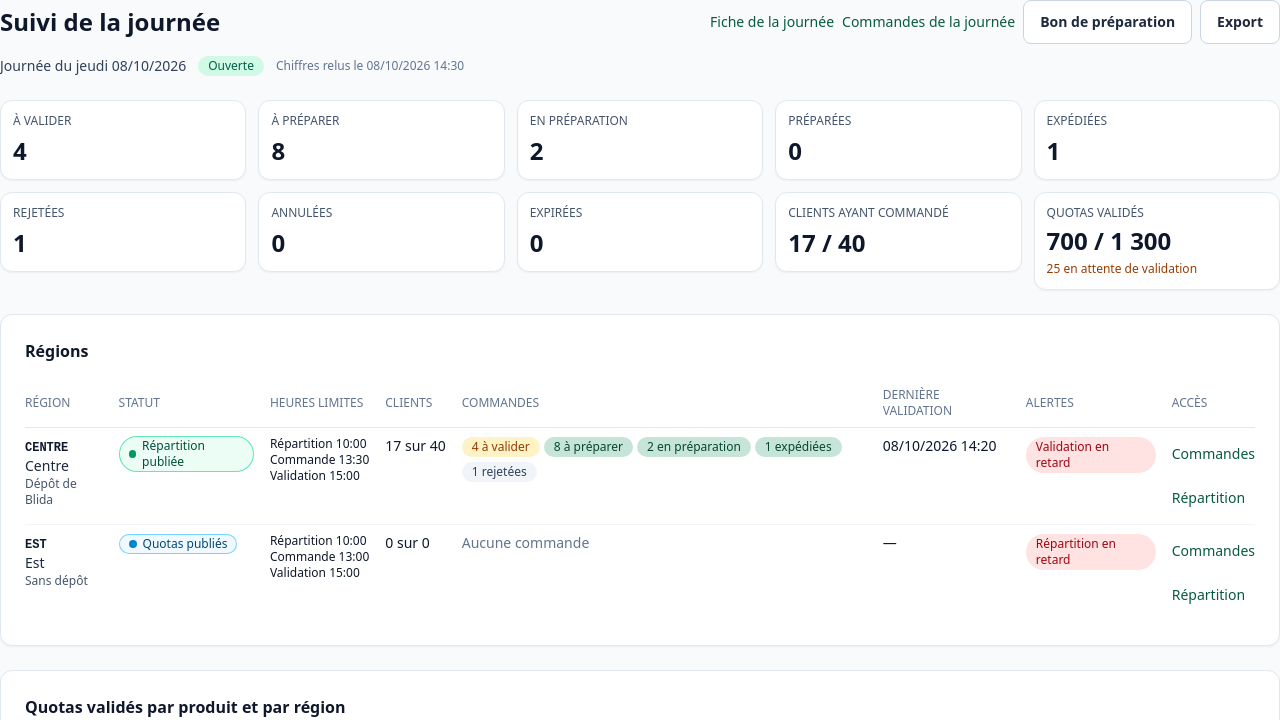
Test: ADV — picking list (RG-A04, EF-ADV-05) › shows a refusal as a message in the dialog, never as a file
Click the button "Bon de préparation" at [1108, 22], box x1=1023 y1=0 x2=1192 y2=44
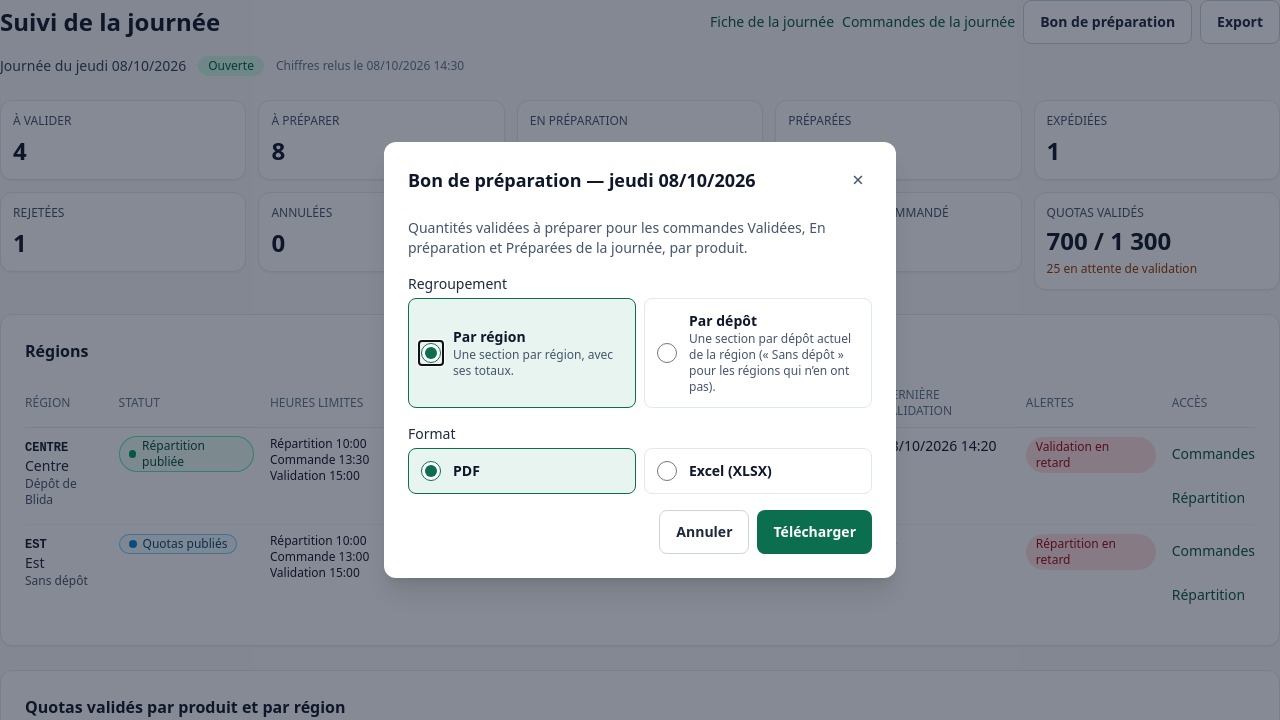
Click the button "Télécharger" at [815, 532], box x1=758 y1=510 x2=872 y2=554
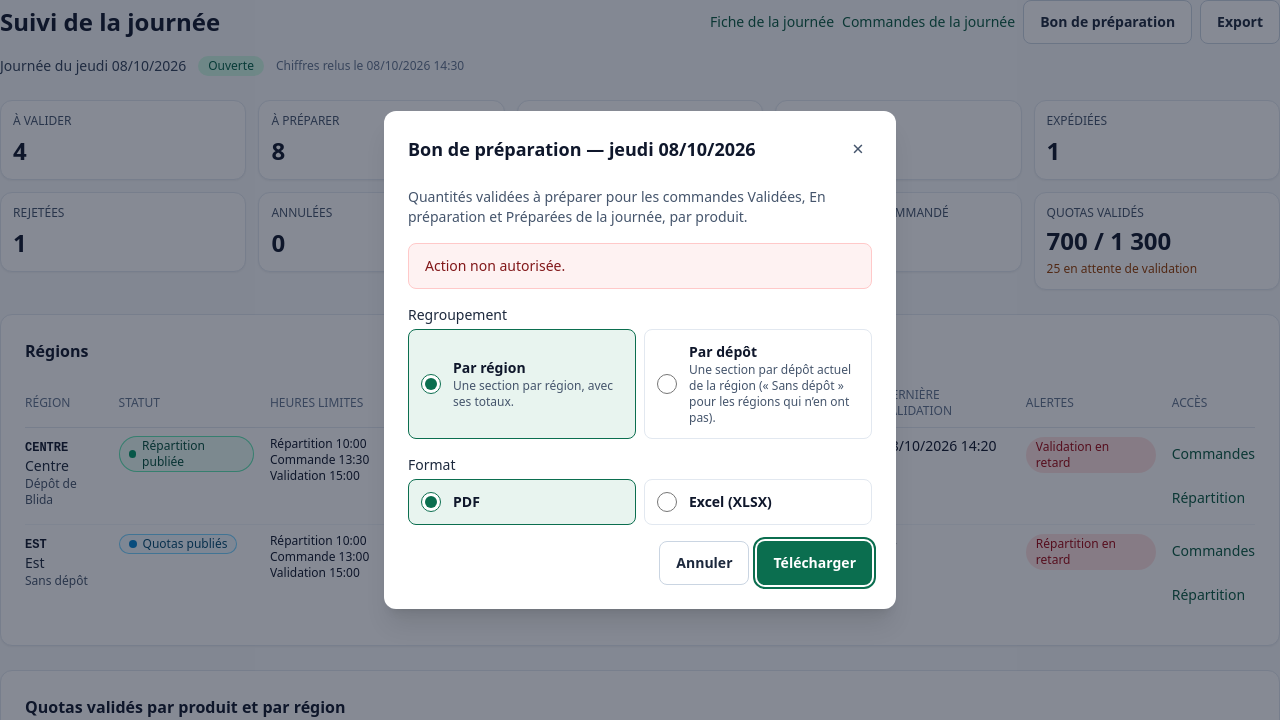
Expected: the dialog is shown, x1=384 y1=111 x2=896 y2=609
Expected: the message reads "Action non autorisée.", x1=425 y1=256 x2=565 y2=275
